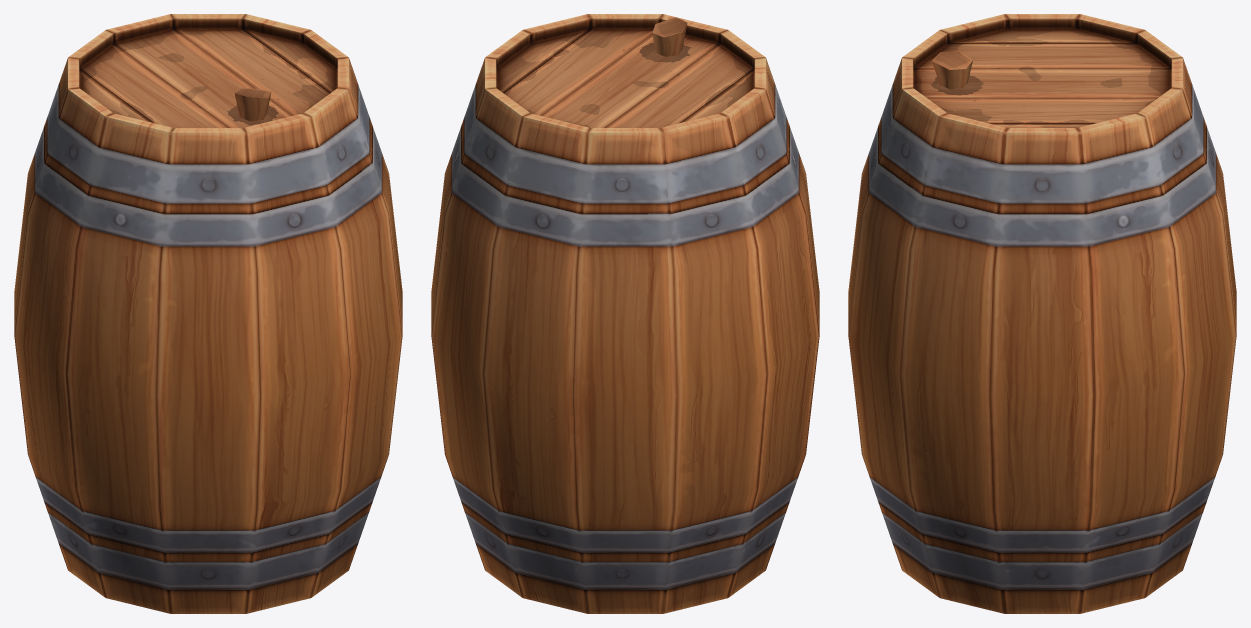
The model's file is BarrelWooden01_1.FBX.
3 views of the same model, side by side, from view 1: azimuth 30°, elevation 25°; view 2: azimuth 150°, elevation 25°; view 3: azimuth 270°, elevation 25° (orthographic).
Visible parts, largest first — view 1: BarrelWooden01_1; view 2: BarrelWooden01_1; view 3: BarrelWooden01_1.
Boxes of the visible parts, left/top/right/bottom form: BarrelWooden01_1: left=14, top=14, right=402, bottom=613; BarrelWooden01_1: left=431, top=14, right=819, bottom=613; BarrelWooden01_1: left=848, top=14, right=1236, bottom=613.
Size of what is drawn, in the model's own units: 0.7252 by 1.02 by 0.7252.
